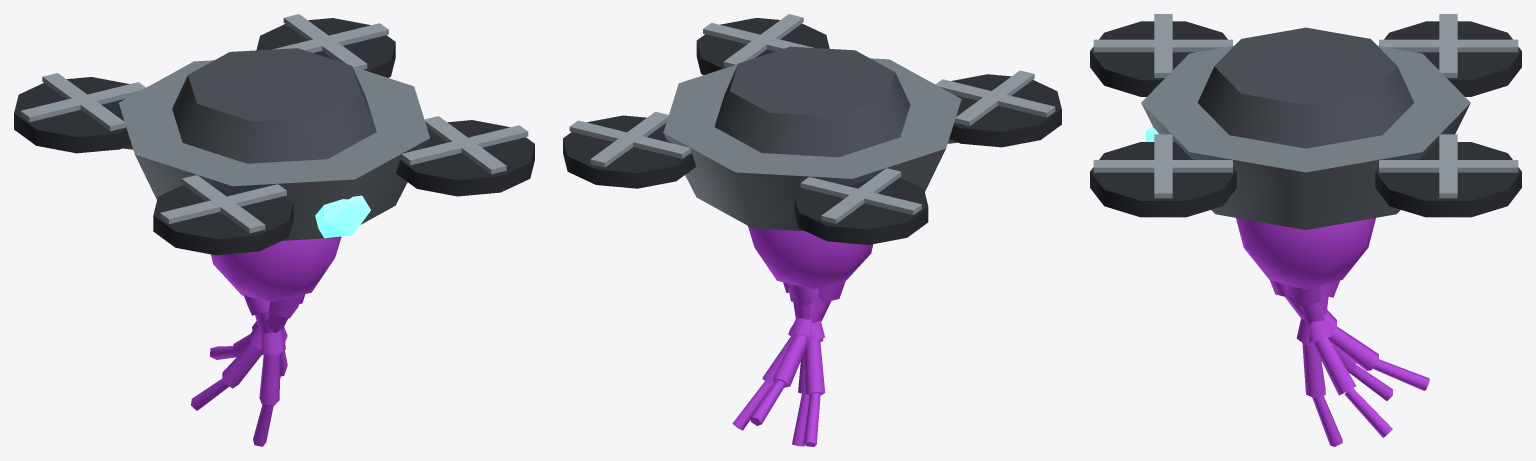
File: en_drone.glb
3 views of the same model, side by side, from view 1: azimuth 30°, elevation 25°; view 2: azimuth 150°, elevation 25°; view 3: azimuth 270°, elevation 25° (orthographic). The views are drawn at different scales.
Parts seen in each view (by area): view 1: core, rotor1, rotor0, rotor2, rotor3, eye, tentacle3, tentacle0, tentacle1, tentacle2, object 14; view 2: core, rotor2, rotor3, rotor1, rotor0, tentacle0, tentacle1, tentacle2, tentacle3, object 8, object 10, object 12 (+1 smaller); view 3: core, rotor0, rotor3, rotor1, rotor2, tentacle3, tentacle1, tentacle2, tentacle0, object 10, object 12, object 14 (+1 smaller).
Part boxes in pixels (x1,y1,x2,y2): core: [14, 18, 534, 301]; rotor1: [160, 175, 286, 233]; rotor0: [401, 116, 528, 174]; rotor2: [20, 73, 145, 131]; rotor3: [272, 14, 388, 69]; eye: [315, 195, 370, 238]; tentacle3: [259, 329, 285, 405]; tentacle0: [222, 294, 304, 388]; tentacle1: [233, 295, 300, 357]; tentacle2: [244, 295, 287, 376]; object 14: [253, 404, 273, 446]; core: [563, 18, 1061, 289]; rotor2: [800, 168, 921, 223]; rotor3: [569, 111, 690, 167]; rotor1: [935, 70, 1055, 126]; rotor0: [703, 14, 813, 67]; tentacle0: [783, 282, 825, 395]; tentacle1: [773, 317, 813, 387]; tentacle2: [762, 281, 845, 385]; tentacle3: [787, 283, 823, 394]; object 8: [804, 393, 820, 446]; object 10: [750, 380, 785, 425]; object 12: [732, 381, 771, 430]; core: [1090, 21, 1521, 289]; rotor0: [1093, 134, 1232, 198]; rotor3: [1379, 134, 1518, 198]; rotor1: [1093, 14, 1232, 77]; rotor2: [1379, 14, 1518, 77]; tentacle3: [1296, 280, 1339, 397]; tentacle1: [1270, 280, 1378, 370]; tentacle2: [1309, 321, 1356, 395]; tentacle0: [1288, 285, 1356, 372]; object 10: [1372, 359, 1429, 390]; object 12: [1344, 388, 1392, 437]; object 14: [1312, 396, 1342, 446].
Size of the model in its own units: 1.16 by 1.14 by 1.18.
